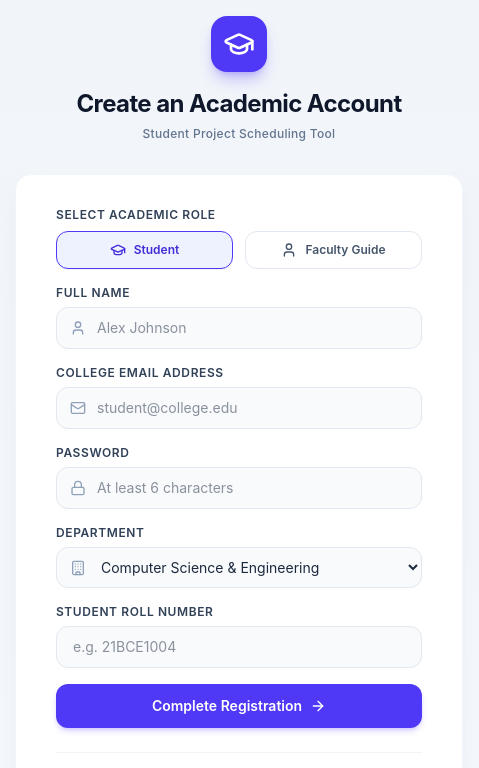
Test case: Authentication Forms › renders registration form with role selection and handles submit
The image size is (479, 768).
Later steps or results of the test are not shown.
Expected: the heading "Create an Academic Account" is shown, [76,89,402,118]
Expected: the button "Student" is shown, [56,231,233,269]
Toggle to Faculty
Click the button "Faculty Guide" at {"x": 334, "y": 250}, box [245,231,422,269]
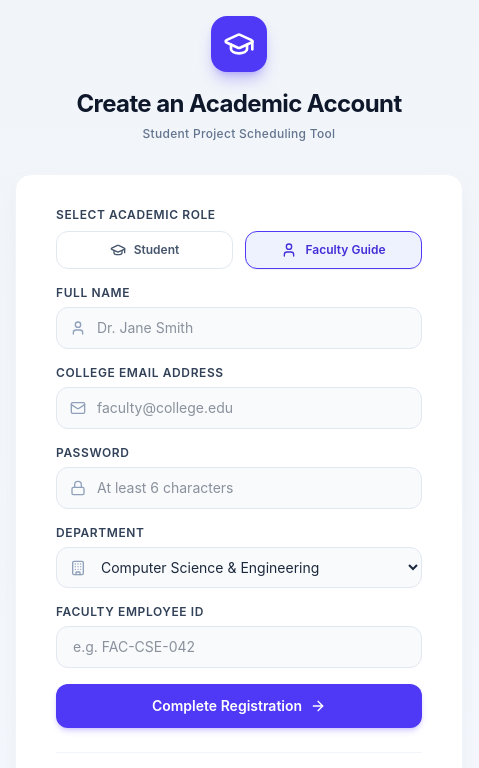
Now the text "Faculty Employee ID" is shown, box [56,604,204,619]
Toggle back to Student
Click the button "Student" at {"x": 144, "y": 250}, box [56,231,233,269]
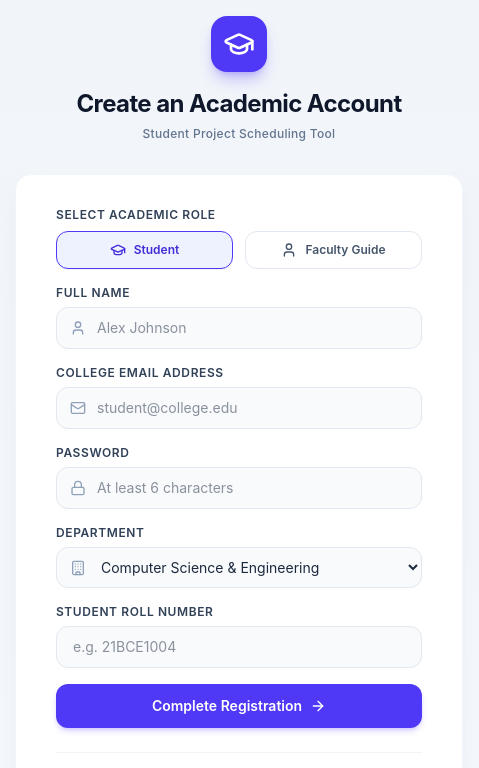
Now the text "Student Roll Number" is shown, box [56,604,214,619]
